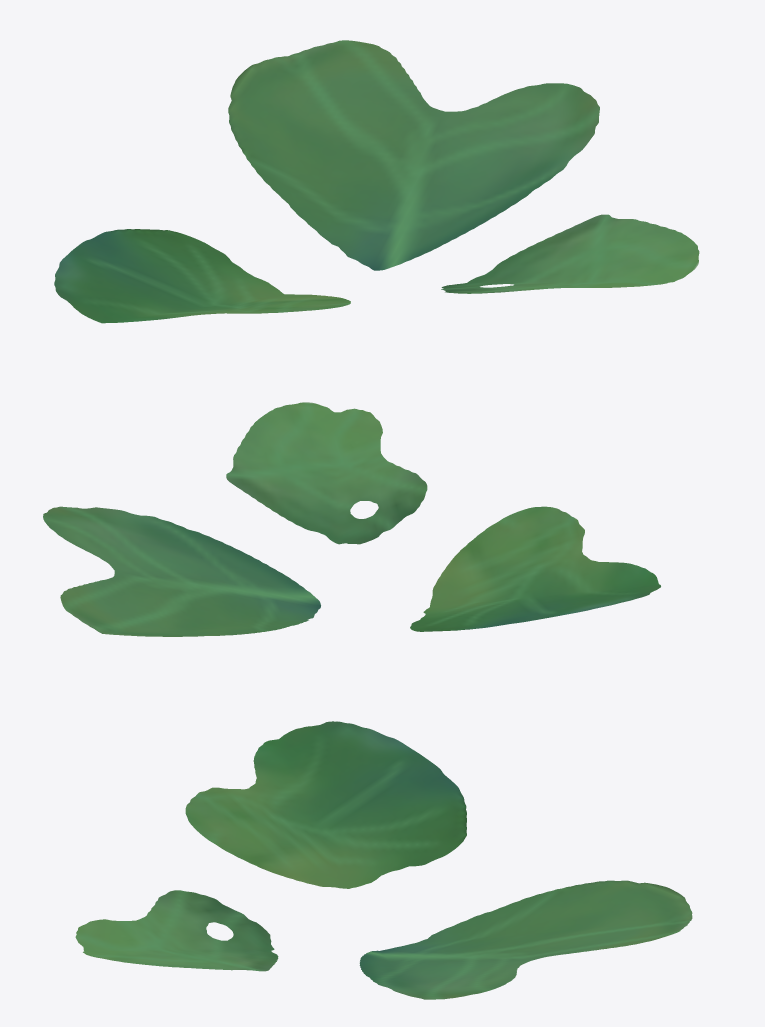
The model's file is SM_Ground_Clover_A.fbx.
3 renders of one model, top to bottom at view 1: azimuth 30°, elevation 25°; view 2: azimuth 150°, elevation 25°; view 3: azimuth 270°, elevation 25°, orthographic. The views are drawn at different scales.
Parts seen in each view (by area): view 1: SM_Ground_Clover_A; view 2: SM_Ground_Clover_A; view 3: SM_Ground_Clover_A.
Part boxes in pixels (bbox=[...]): SM_Ground_Clover_A: bbox=[54, 40, 699, 323]; SM_Ground_Clover_A: bbox=[43, 402, 660, 636]; SM_Ground_Clover_A: bbox=[75, 721, 692, 999].
Bounding box in the file's own units: 21.5 × 20.05 × 2.63.
Materials: 1 (1 with a texture image).
